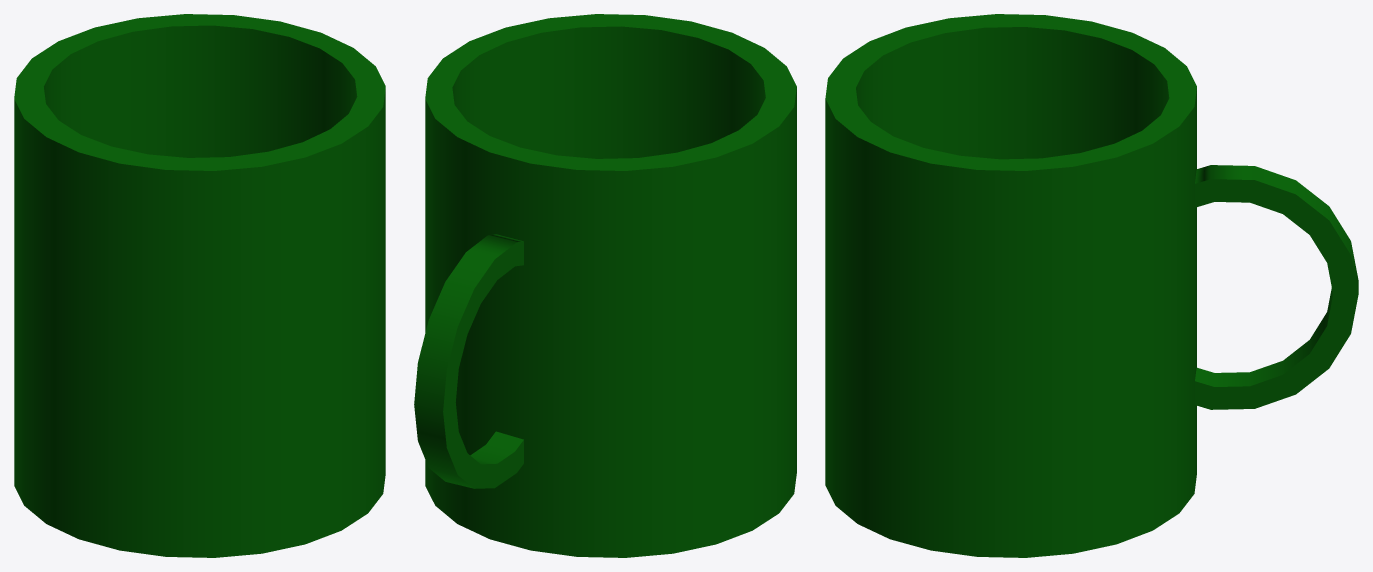
The picture shows the model from 3 angles, left to right: view 1: azimuth 30°, elevation 25°; view 2: azimuth 150°, elevation 25°; view 3: azimuth 270°, elevation 25°; orthographic projection.
Parts seen in each view (by area): view 1: mesh1_mesh1-geometry; view 2: mesh1_mesh1-geometry, mesh2_mesh2-geometry_1; view 3: mesh1_mesh1-geometry, mesh2_mesh2-geometry_1.
Boxes of the visible parts, left/top/right/bottom form: mesh1_mesh1-geometry: left=14, top=14, right=385, bottom=557; mesh1_mesh1-geometry: left=425, top=14, right=796, bottom=557; mesh2_mesh2-geometry_1: left=414, top=234, right=523, bottom=488; mesh1_mesh1-geometry: left=825, top=14, right=1196, bottom=557; mesh2_mesh2-geometry_1: left=1195, top=165, right=1358, bottom=409.
Bounding box in the file's own units: 0.478 × 0.549 × 0.6856.
